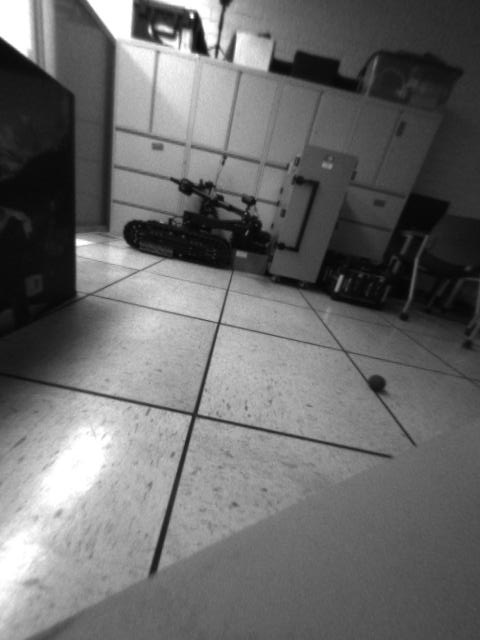dogtoy: (363, 364, 393, 396)
